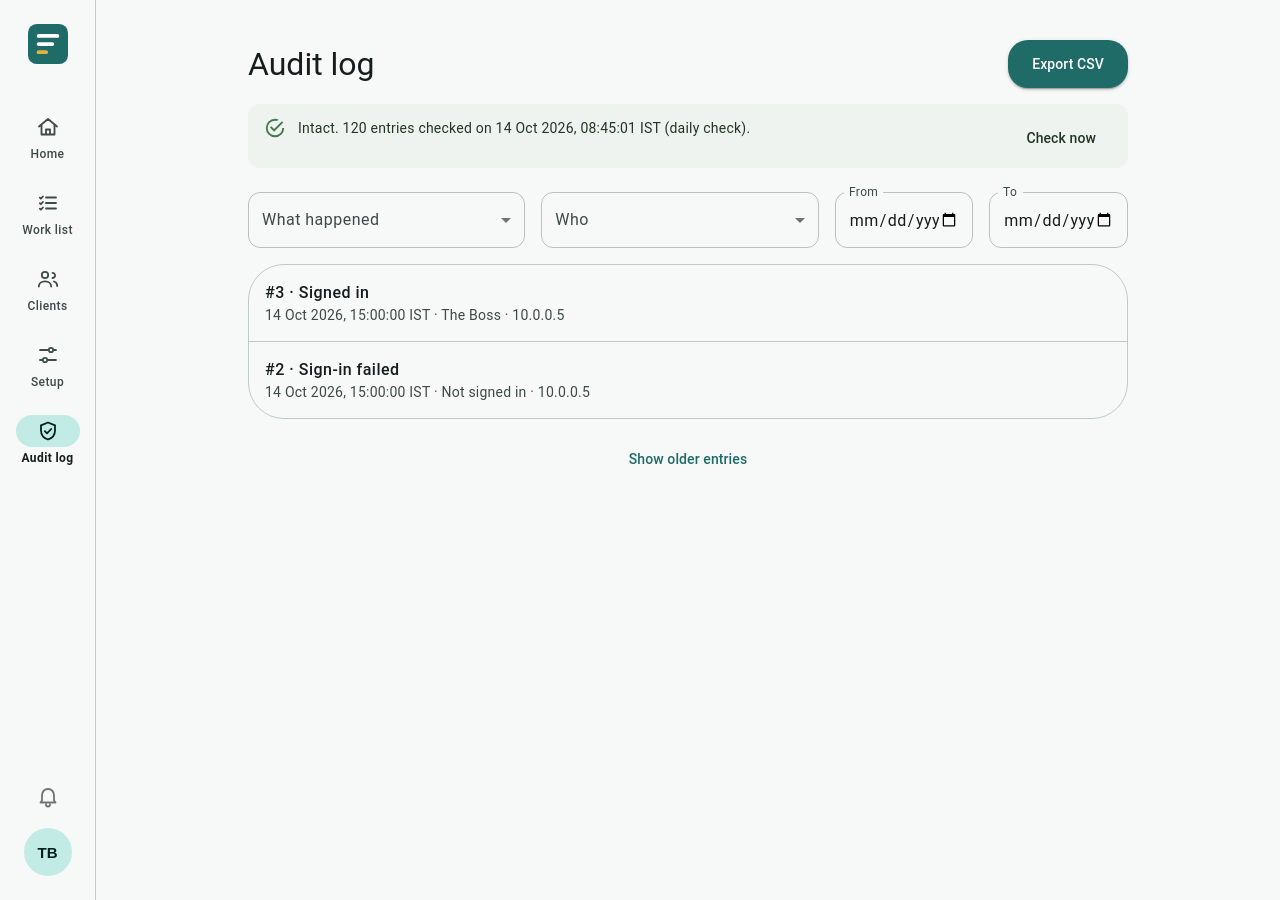
Test: Audit log screen › checks on request and shows a failure plainly
Check: the message with test id "chain-status" is shown, box [248, 104, 1128, 168]
Click the button "Check now": (1061, 138) [1002, 114, 1120, 162]
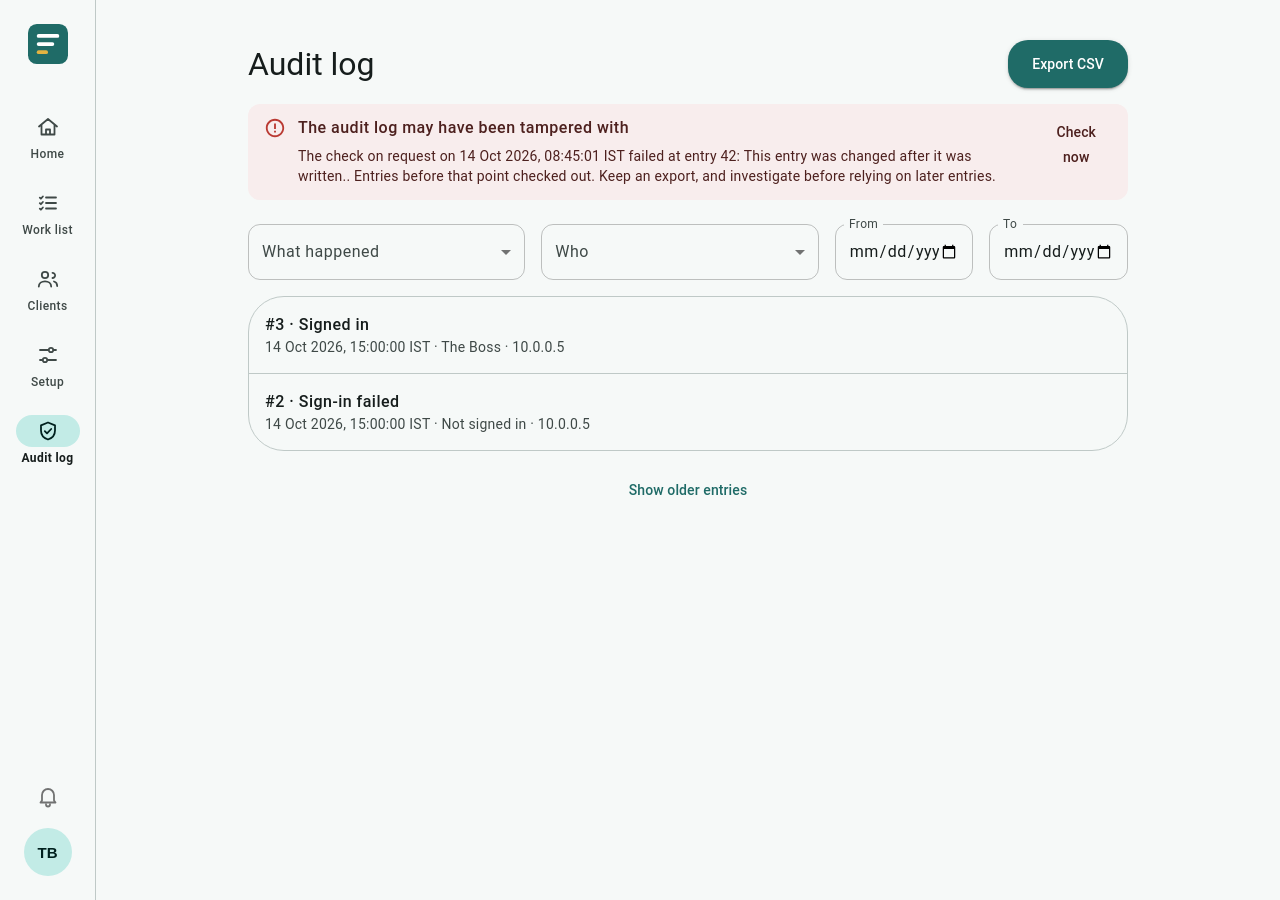
Check: the message with test id "chain-status" shows "failed at entry 42: This entry was changed after it was written.", box [248, 104, 1128, 200]
